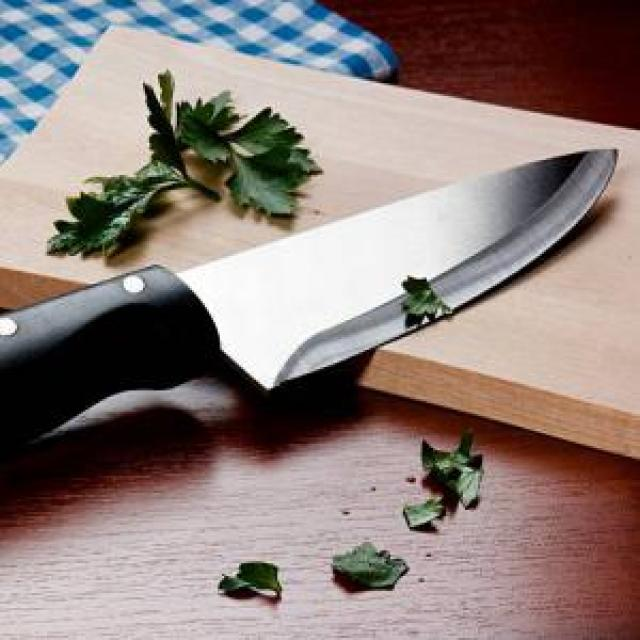knife: (0, 147, 620, 472)
